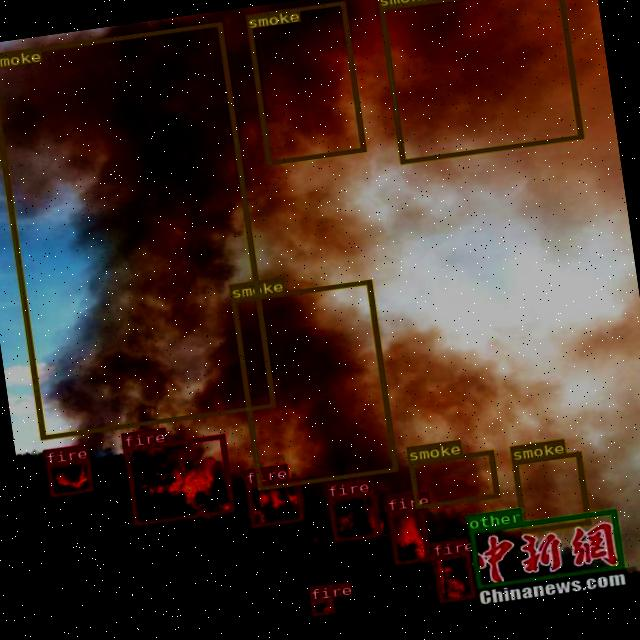fire: (123, 434, 234, 525), (244, 477, 304, 528), (327, 491, 381, 542), (386, 506, 430, 566), (431, 551, 475, 603), (45, 458, 94, 498), (310, 597, 334, 616)
smoke: (0, 21, 275, 439), (230, 279, 398, 490), (378, 0, 583, 163), (244, 0, 366, 165), (511, 451, 590, 534), (408, 449, 499, 508)
